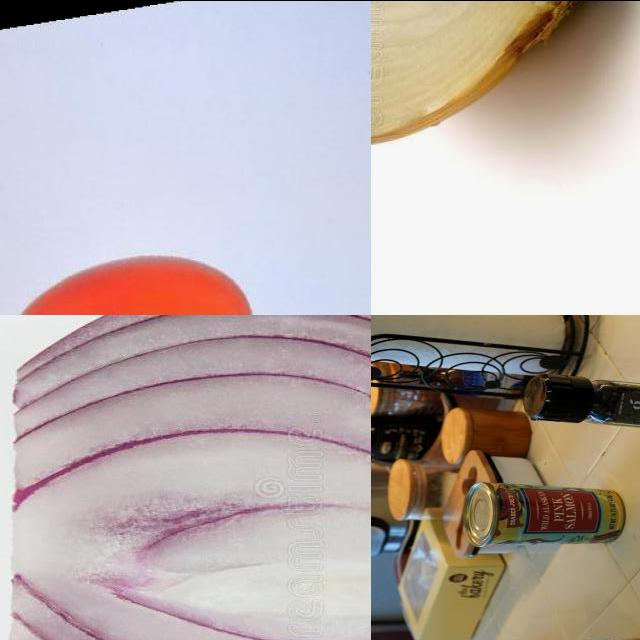bell_pepper: (523, 377, 640, 432)
onion: (7, 315, 372, 640), (372, 1, 611, 157)
tomato: (1, 249, 272, 315)
